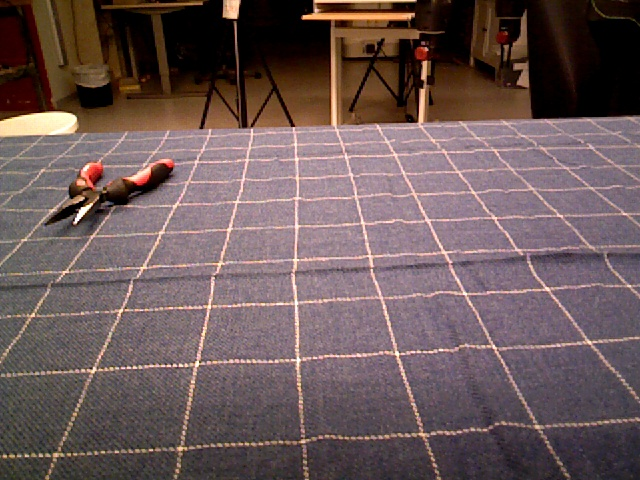plier1: (43, 156, 176, 228)
